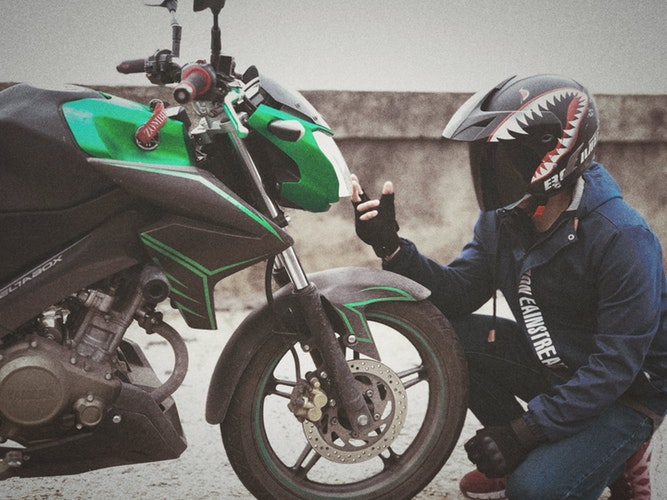helmet: (454, 75, 598, 210)
